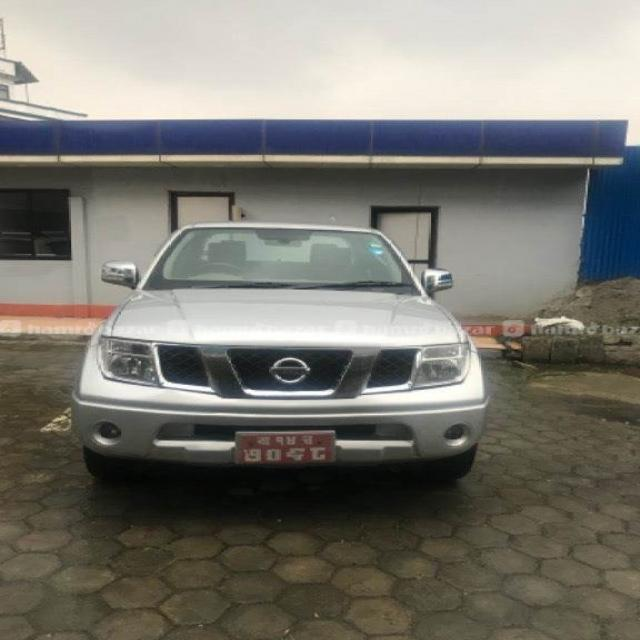License-plate: (225, 424, 342, 468)
